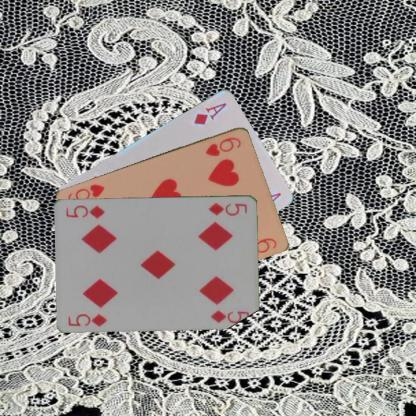5d: (206, 199, 249, 217), (66, 310, 108, 328)
6h: (203, 134, 243, 157)
Ad: (191, 99, 228, 126)
